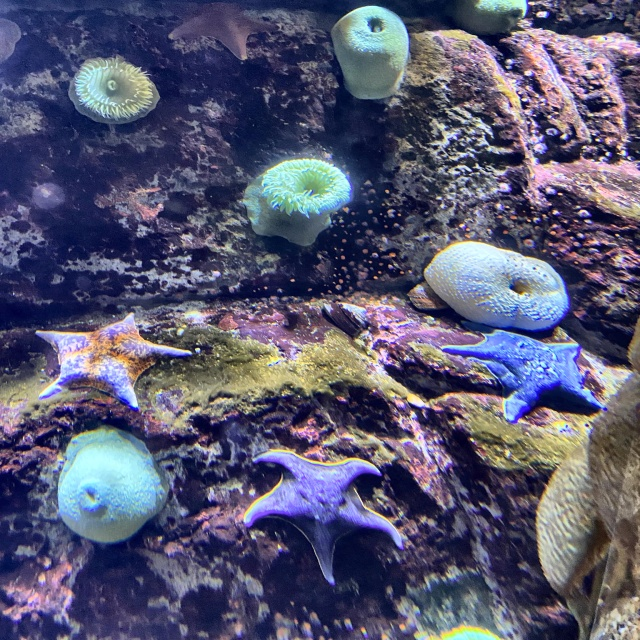starfish: (253, 453, 410, 567), (442, 328, 602, 415), (40, 322, 185, 406)
